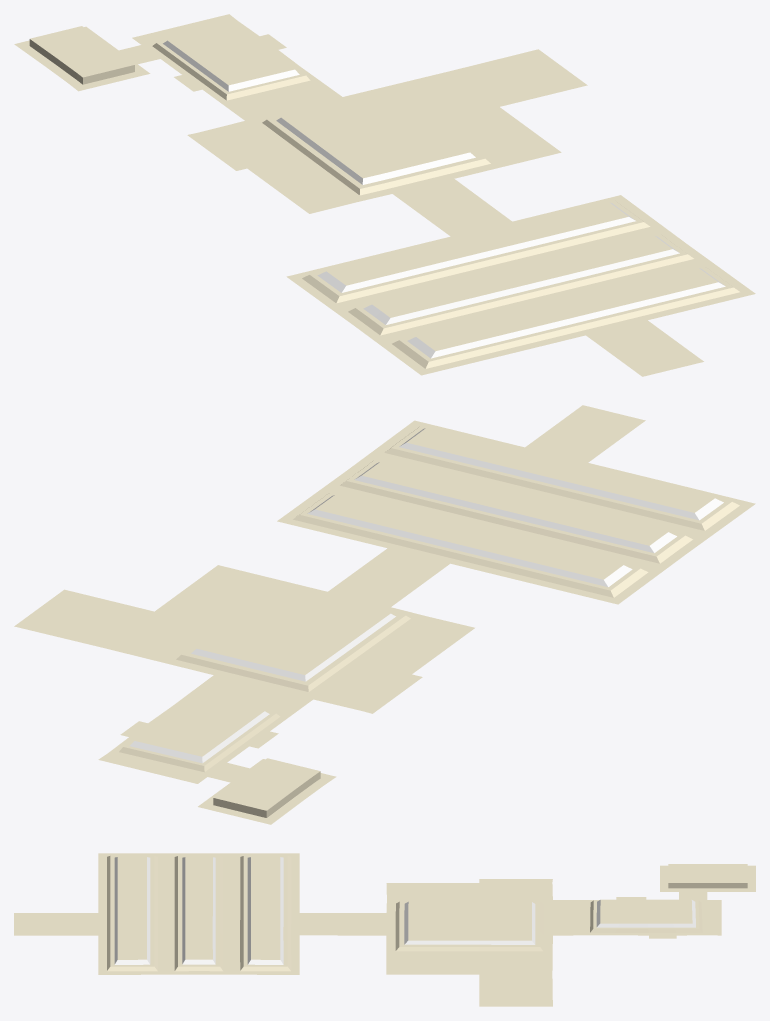
Rendered from Ceiling01.FBX.
The picture shows the model from 3 angles, top to bottom: view 1: azimuth 30°, elevation 25°; view 2: azimuth 150°, elevation 25°; view 3: azimuth 270°, elevation 25°; orthographic projection. The views are drawn at different scales.
Visible parts, largest first — view 1: Object053; view 2: Object053; view 3: Object053.
Part boxes in pixels (bbox=[...]): Object053: bbox=[14, 14, 755, 376]; Object053: bbox=[14, 405, 755, 824]; Object053: bbox=[14, 853, 755, 1006].
Bounding box in the file's own units: 2151 × 40 × 4395.
